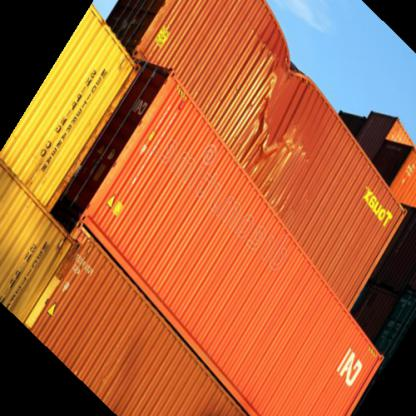Damage: (254, 59, 333, 161)
